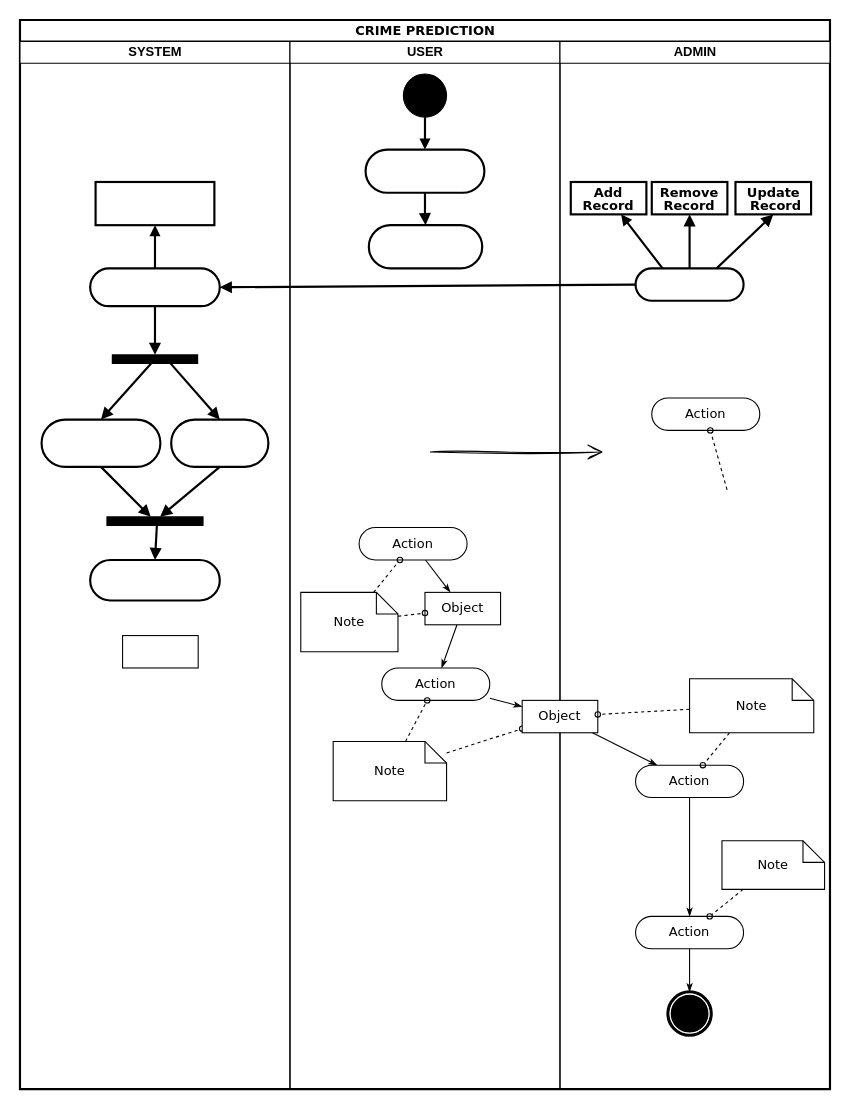
Image size: 849x1108. Some labels were removed from this diagram. Here are the shapes that lost their labels. From the top down, the centre of each, then its label:
At point 424,170: "Enter Location".
At point 154,203: "Remove Noisy Data".
At point 425,246: "Select Date & Time".
At point 154,287: "Preprocessed Data".
At point 689,284: "Manage Data".
At point 100,442: "Decision Tree Classifier".
At point 219,442: "KNN".
At point 154,579: "Evaluate Models".
